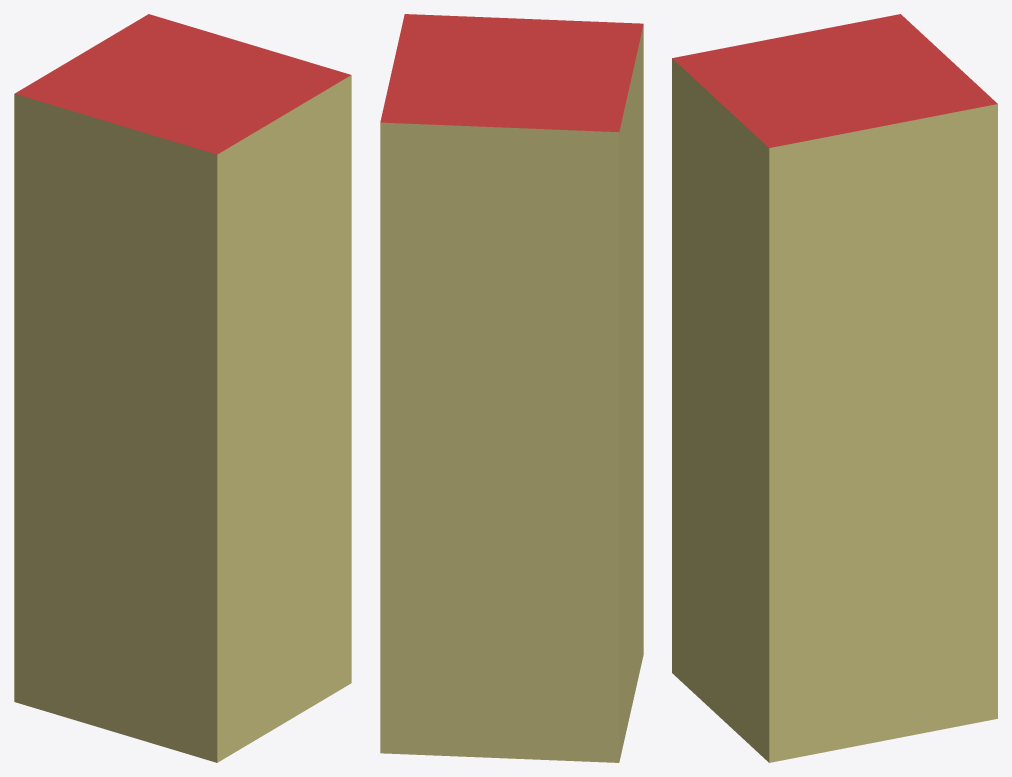
The picture shows the model from 3 angles, left to right: view 1: azimuth 30°, elevation 25°; view 2: azimuth 150°, elevation 25°; view 3: azimuth 270°, elevation 25°; orthographic projection. The views are drawn at different scales.
Size of the model in its own units: 2.68 by 2.75 by 5.73.
